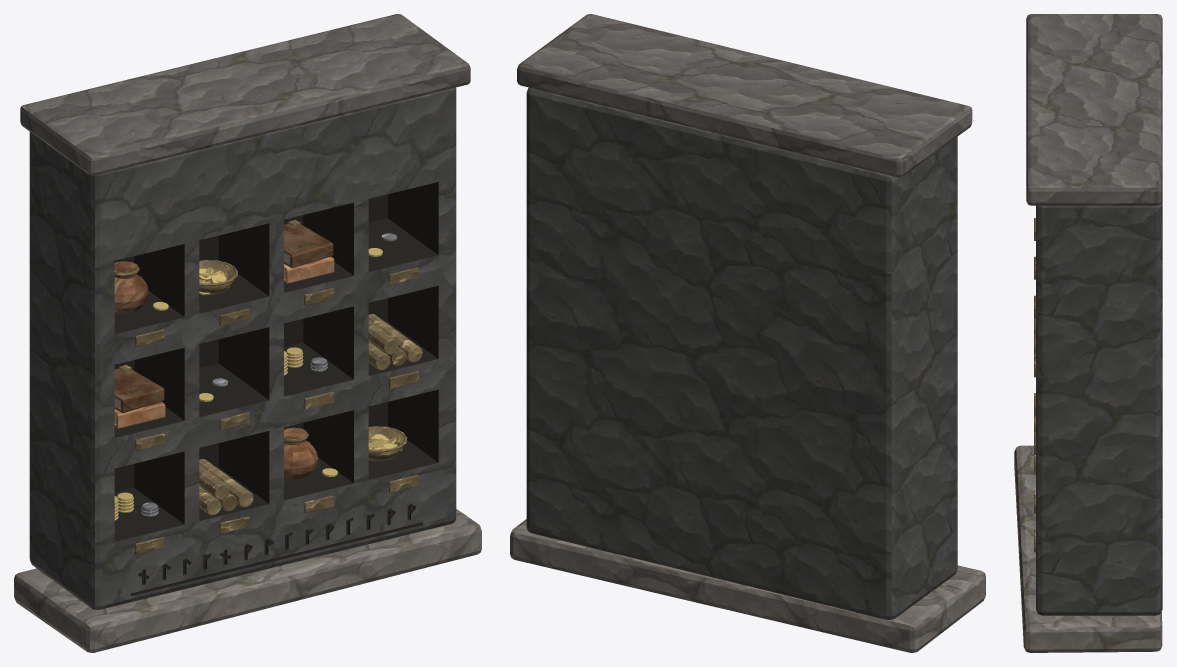
The model's file is bv_pigeonholes.glb.
The picture shows the model from 3 angles, left to right: view 1: azimuth 30°, elevation 25°; view 2: azimuth 150°, elevation 25°; view 3: azimuth 270°, elevation 25°; orthographic projection. The views are drawn at different scales.
Parts seen in each view (by area): view 1: model; view 2: model; view 3: model.
Boxes of the visible parts, x1,y1,x2,y2 form: model: (14, 14, 481, 652); model: (510, 14, 985, 652); model: (1014, 14, 1162, 652).
Size of the model in its own units: 1.38 by 1.62 by 0.4679.
42 materials, 12 textured.
